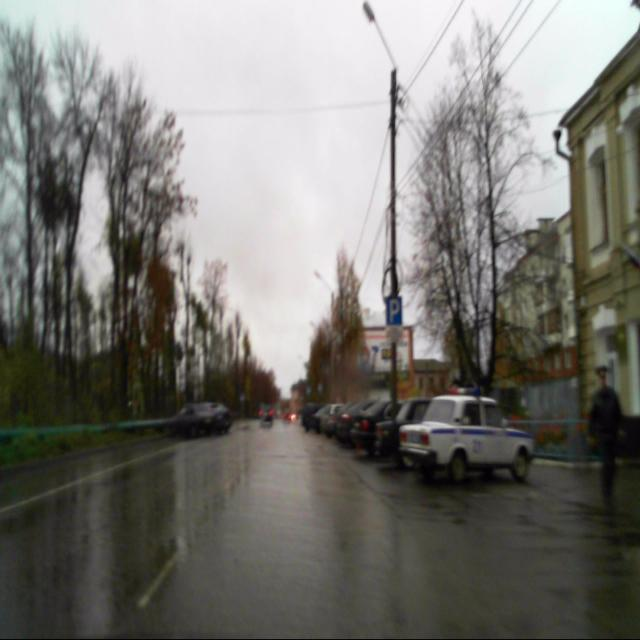road sign: (386, 297, 402, 325)
